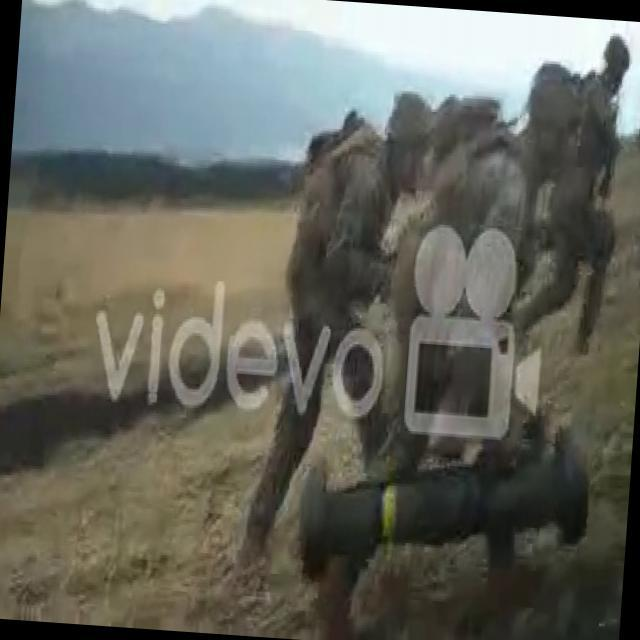rocket: (292, 426, 592, 603)
